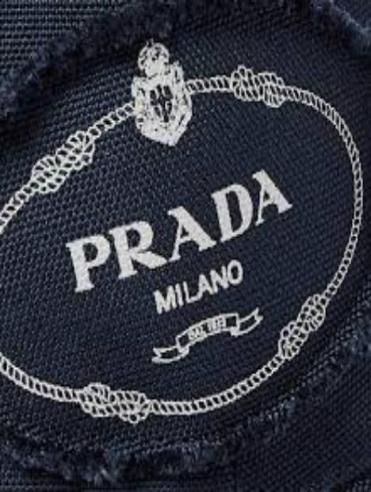PRADA: (61, 164, 298, 305)
